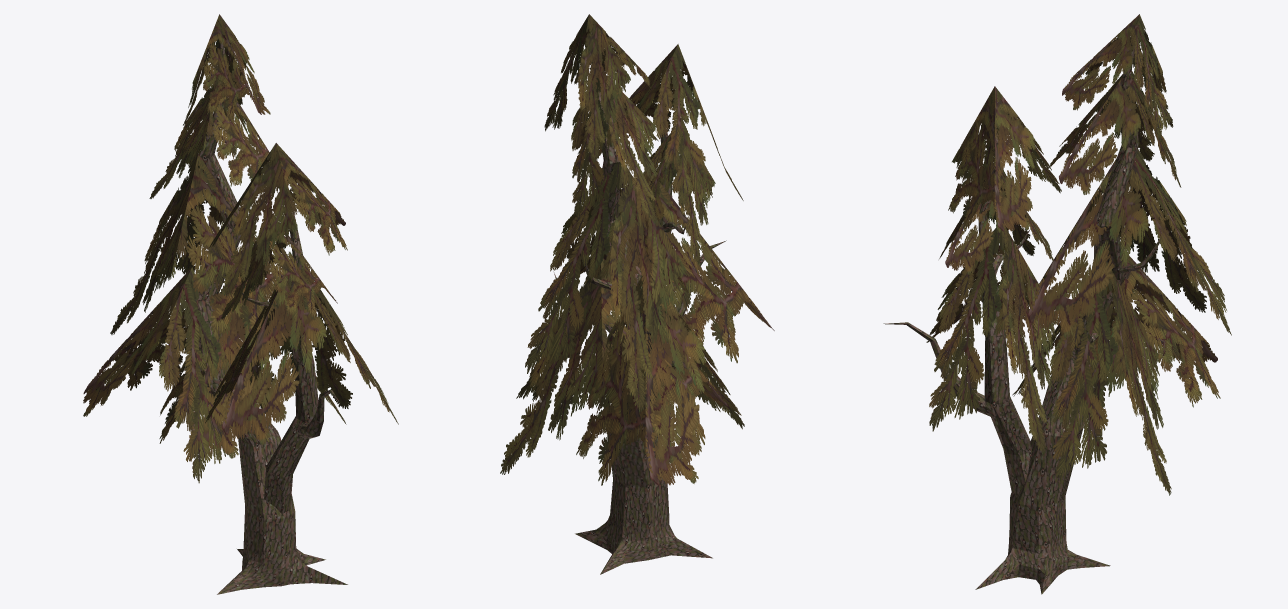
File: Pine_small02.fbx
The picture shows the model from 3 angles, left to right: view 1: azimuth 30°, elevation 25°; view 2: azimuth 150°, elevation 25°; view 3: azimuth 270°, elevation 25°; orthographic projection. The views are drawn at different scales.
Parts seen in each view (by area): view 1: Tree_small02; view 2: Tree_small02; view 3: Tree_small02.
Part boxes in pixels (x1=…): Tree_small02: x1=83, y1=14, x2=398, y2=594; Tree_small02: x1=500, y1=14, x2=774, y2=574; Tree_small02: x1=883, y1=14, x2=1231, y2=594.
Size of the model in its own units: 4.7 by 7.67 by 5.35.
2 materials, 2 textured.
